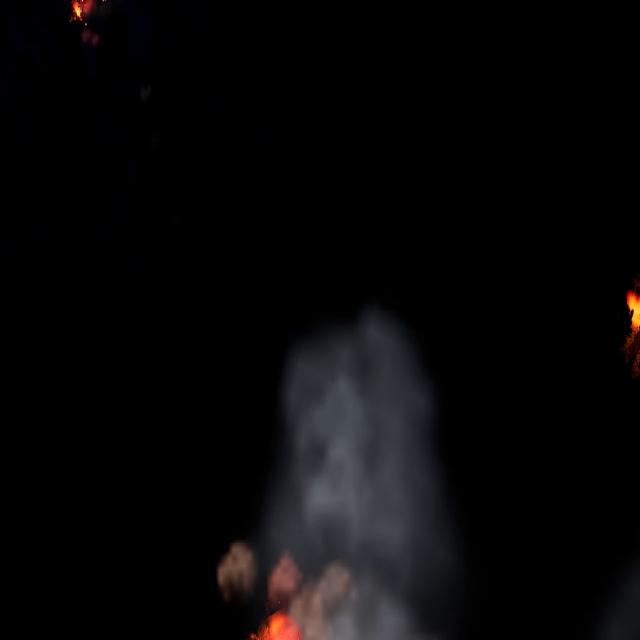fire: (242, 610, 304, 640), (625, 290, 640, 344), (70, 0, 94, 21)
smoke: (214, 304, 460, 638)
